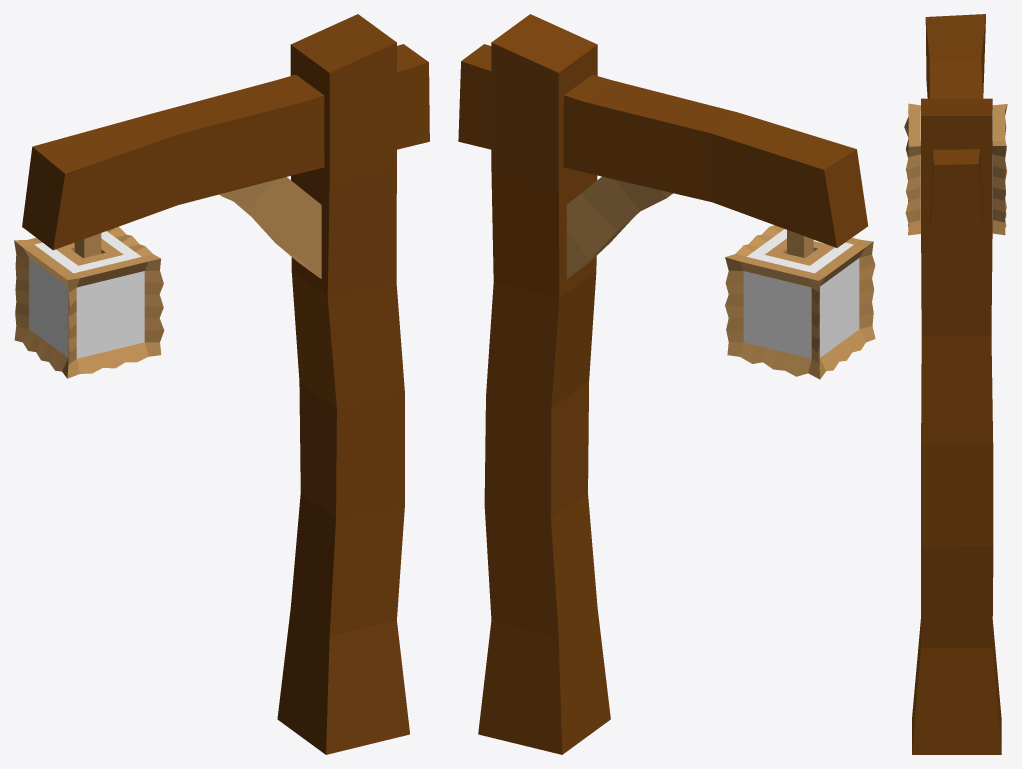
Rendered from lamba.fbx.
The picture shows the model from 3 angles, left to right: view 1: azimuth 30°, elevation 25°; view 2: azimuth 150°, elevation 25°; view 3: azimuth 270°, elevation 25°; orthographic projection. The views are drawn at different scales.
Parts seen in each view (by area): view 1: BahçeLambası1; view 2: BahçeLambası1; view 3: BahçeLambası1.
Part boxes in pixels (x1,y1,x2,y2): BahçeLambası1: [14, 14, 429, 754]; BahçeLambası1: [458, 14, 875, 754]; BahçeLambası1: [904, 14, 1007, 754].
Size of the model in its own units: 141 by 245 by 36.23.
